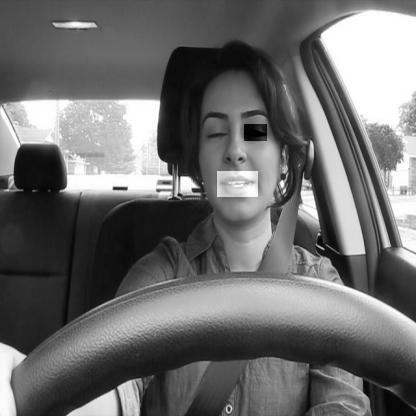seatbelt: (172, 15, 308, 416)
